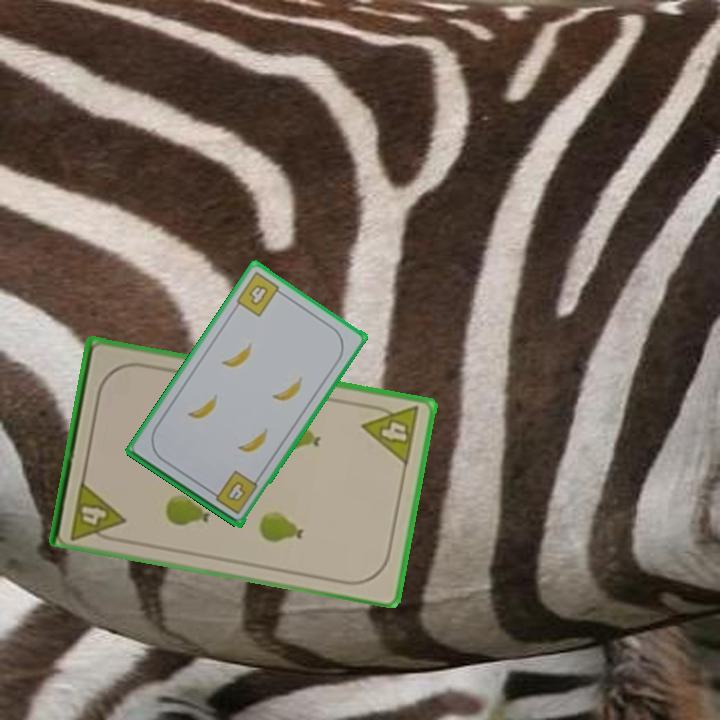4b: (232, 268, 288, 320), (206, 467, 261, 517)
4p: (359, 399, 422, 468), (66, 476, 128, 545)
